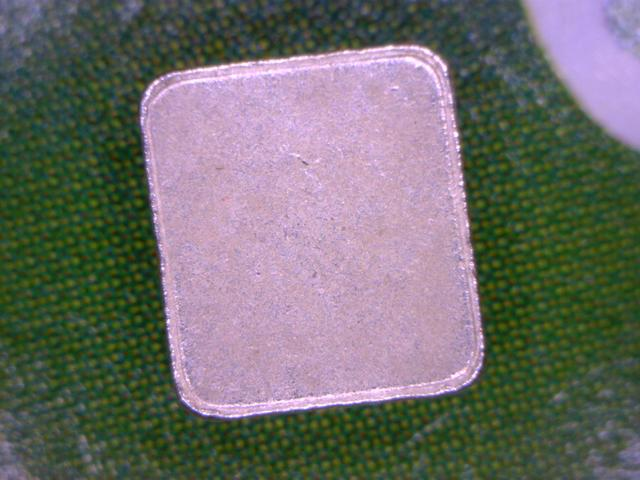nok: (134, 41, 488, 429)
